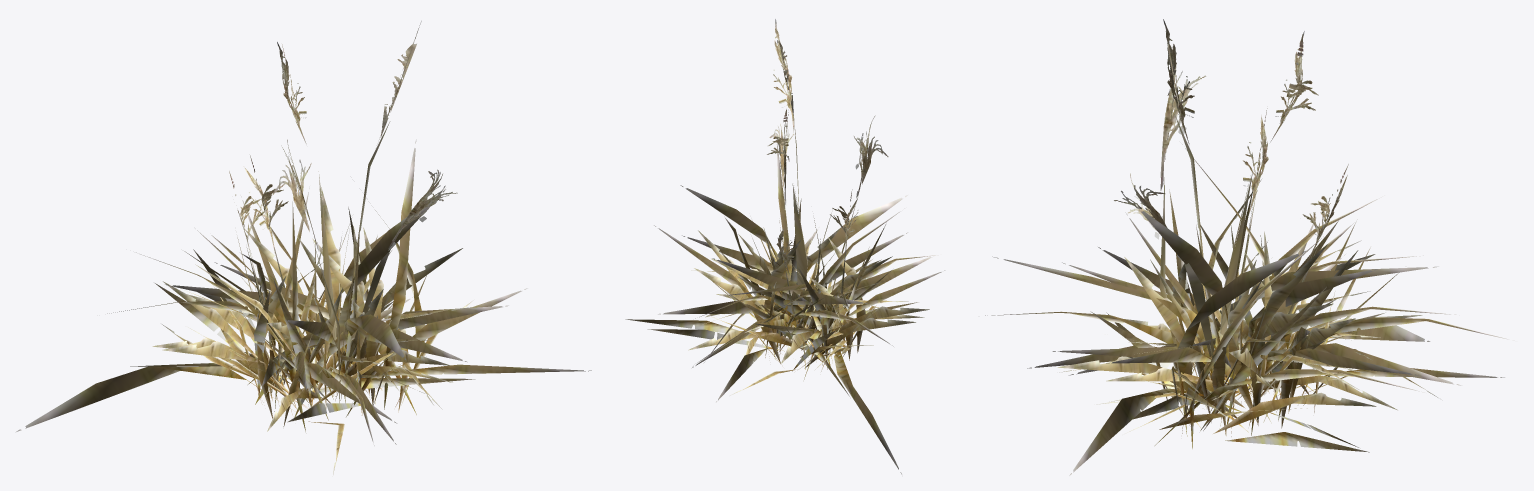
File: co-kho-d.glb
3 renders of one model, left to right at view 1: azimuth 30°, elevation 25°; view 2: azimuth 150°, elevation 25°; view 3: azimuth 270°, elevation 25°, orthographic. The views are drawn at different scales.
Visible parts, largest first — view 1: grass_medium_01_mid_a_LOD0; view 2: grass_medium_01_mid_a_LOD0; view 3: grass_medium_01_mid_a_LOD0.
Boxes of the visible parts, x1=… form: grass_medium_01_mid_a_LOD0: x1=15, y1=21, x2=591, y2=474; grass_medium_01_mid_a_LOD0: x1=625, y1=19, x2=945, y2=474; grass_medium_01_mid_a_LOD0: x1=985, y1=19, x2=1514, y2=475.
Bounding box in the file's own units: 0.974 × 0.9789 × 1.
1 material, 1 textured.
